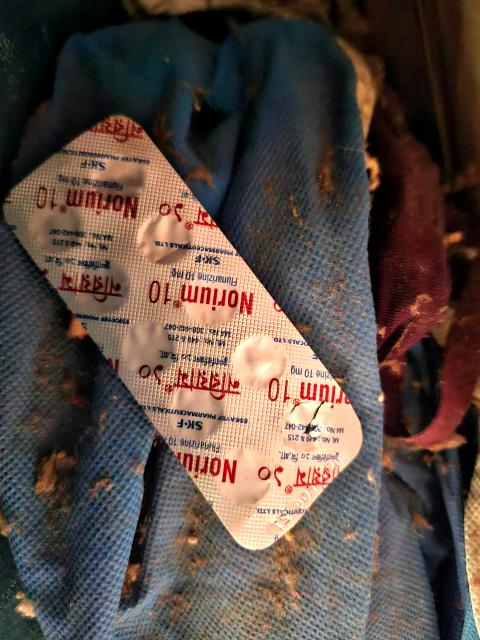medicine: (0, 102, 409, 568)
